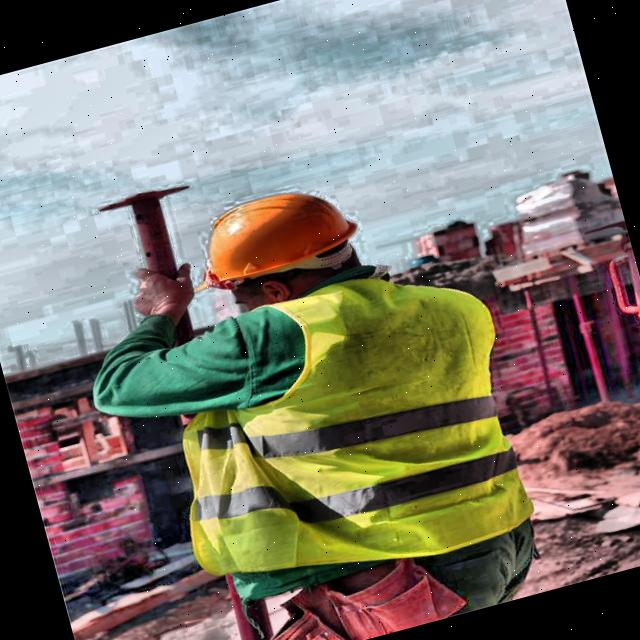helmet: (158, 155, 390, 327)
